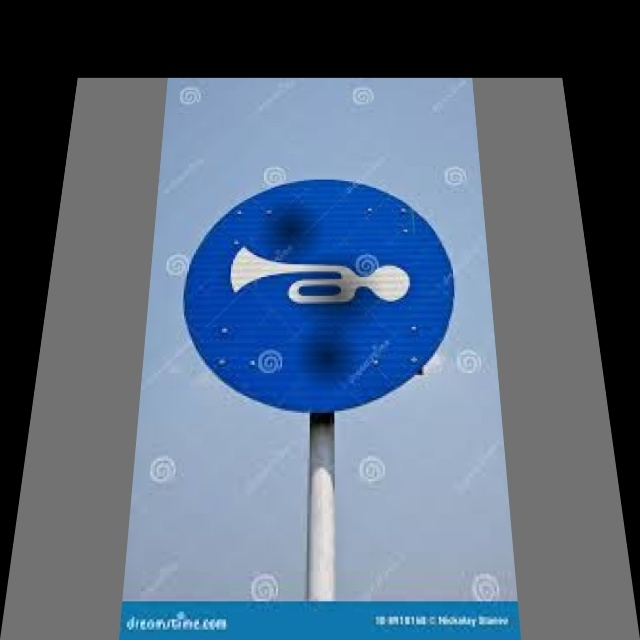Compulsory_Sound_Horn: (176, 176, 462, 406)
